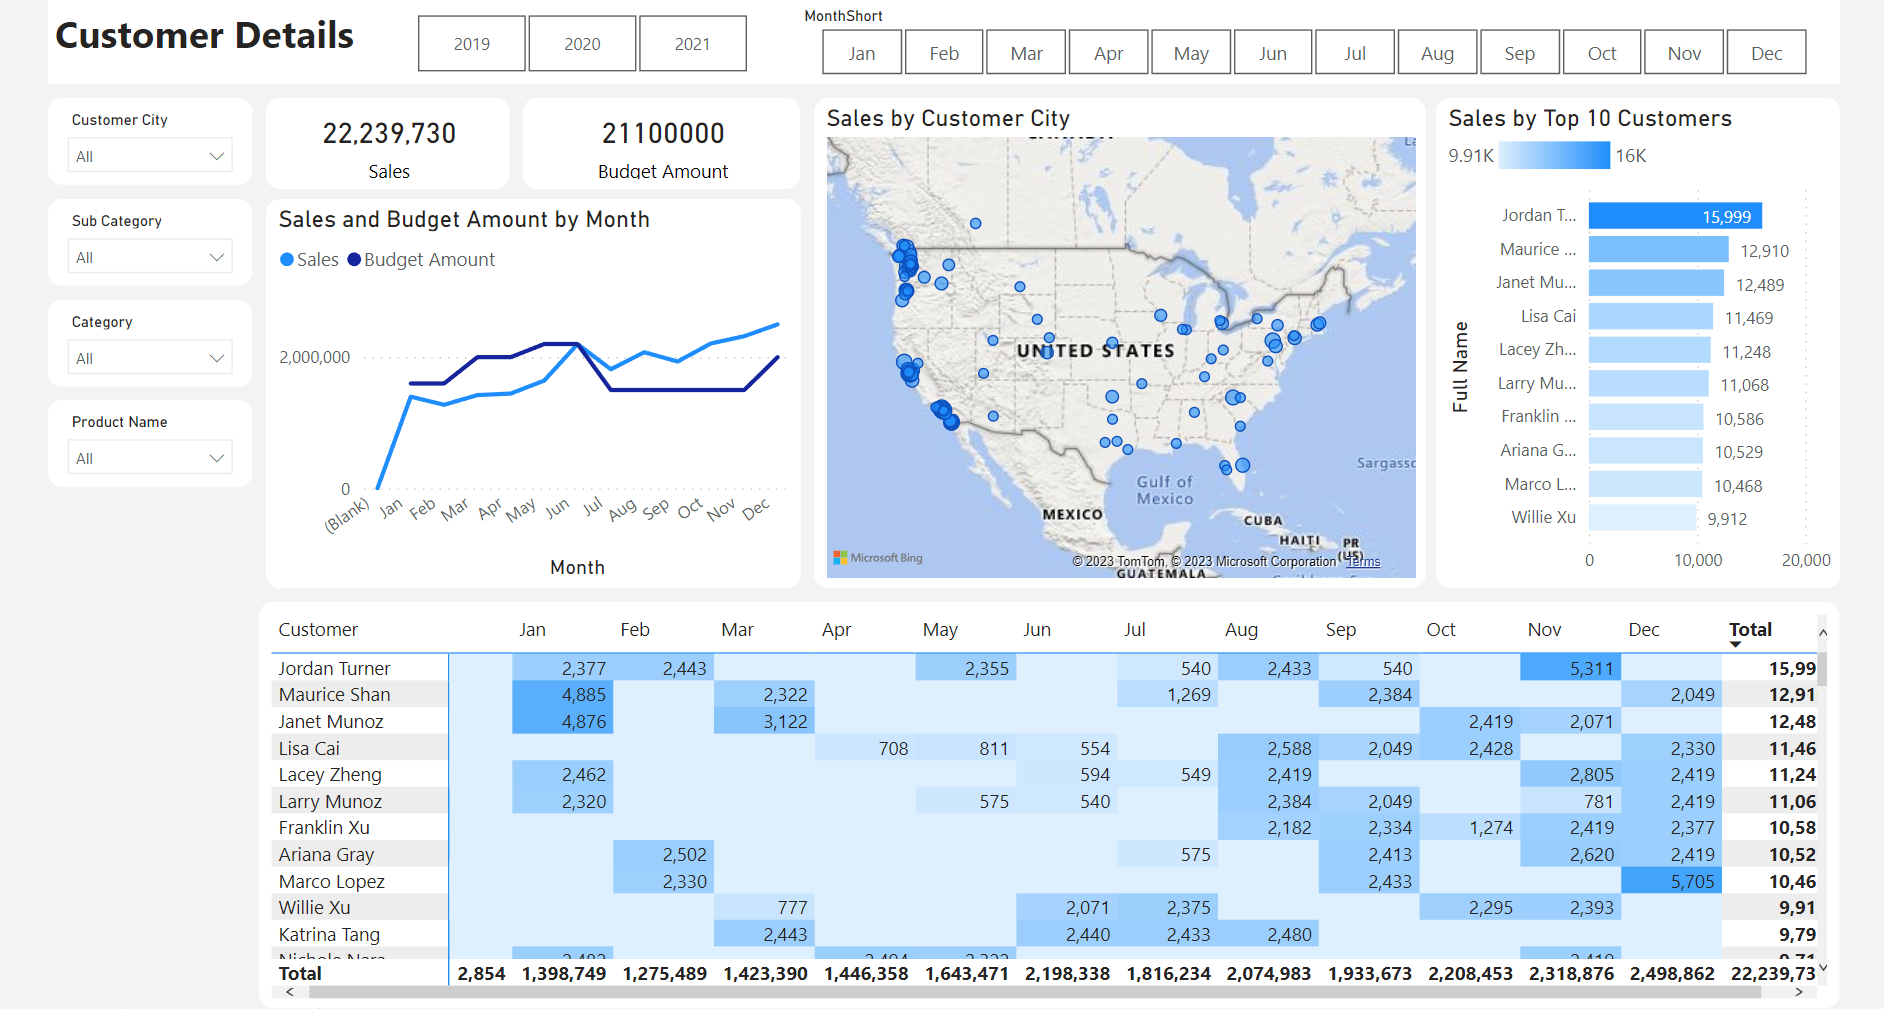

The dashboard page shown, as its layout file describes it:
{"tool":"powerbi","page":{"name":"Customer Details ","canvas":[1280,720],"ordinal":1},"visuals":[{"type":"textbox","box":[0,0,1280,60.3],"z":0},{"type":"slicer","fields":{"Values":["Dim_Customers.Customer City"]},"box":[0,70,145.9,62.2],"z":1000},{"type":"slicer","fields":{"Values":["Dim_Product.Sub Category"]},"box":[0,142,145.9,62.2],"z":2000},{"type":"slicer","fields":{"Values":["Dim_Product.Product Category"]},"box":[0,214,145.9,62.2],"z":3000},{"type":"slicer","fields":{"Values":["Dim_Product.Product Name"]},"box":[0,286,145.9,62.2],"z":4000},{"type":"slicer","fields":{"Values":["Dim_Calendar.Year"]},"box":[234.4,0,292.8,60.3],"z":5000},{"type":"slicer","fields":{"Values":["Dim_Calendar.MonthShort"]},"box":[527.2,0,752.8,60.3],"z":6000},{"type":"barChart","title":"Sales by Top 10 Customers","fields":{"Y":["Key Measures.Sales"],"Category":["Dim_Customers.Full Name"]},"box":[991.5,70.2,288.5,350.1],"z":7000},{"type":"pivotTable","fields":{"Rows":["Dim_Customers.Full Name"],"Values":["Key Measures.Sales"],"Columns":["Dim_Calendar.MonthShort"]},"box":[150.8,429.9,1129.2,289.8],"z":8000},{"type":"card","fields":{"Values":["Key Measures.Sales"]},"box":[155.6,70,174.1,65.2],"z":9000},{"type":"card","fields":{"Values":["Key Measures.Budget Amount"]},"box":[339.5,70,198.4,65.2],"z":10000},{"type":"lineChart","fields":{"Y":["Key Measures.Sales","Key Measures.Budget Amount"],"Category":["Dim_Calendar.MonthShort"]},"box":[155.8,142.3,381.8,277.9],"z":11000},{"type":"map","fields":{"Category":["Dim_Customers.Customer City"],"Size":["Key Measures.Sales"]},"box":[547.2,70.2,436.6,350.1],"z":12000}]}

Visuals, with their boxes on the page's 1280x720 design canvas (x1, y1, x2, y2). These are canvas units, not pixel positions in the 1884x1009 screenshot, which may show the page scaled, cropped or inside an application window:
textbox: bbox=[0, 0, 1280, 60]
slicer - Dim_Customers.Customer City: bbox=[0, 70, 146, 132]
slicer - Dim_Product.Sub Category: bbox=[0, 142, 146, 204]
slicer - Dim_Product.Product Category: bbox=[0, 214, 146, 276]
slicer - Dim_Product.Product Name: bbox=[0, 286, 146, 348]
slicer - Dim_Calendar.Year: bbox=[234, 0, 527, 60]
slicer - Dim_Calendar.MonthShort: bbox=[527, 0, 1280, 60]
"Sales by Top 10 Customers" barChart: bbox=[992, 70, 1280, 420]
pivotTable - Dim_Customers.Full Name x Key Measures.Sales: bbox=[151, 430, 1280, 720]
card - Key Measures.Sales: bbox=[156, 70, 330, 135]
card - Key Measures.Budget Amount: bbox=[340, 70, 538, 135]
lineChart - Key Measures.Sales x Key Measures.Budget Amount: bbox=[156, 142, 538, 420]
map - Dim_Customers.Customer City x Key Measures.Sales: bbox=[547, 70, 984, 420]
